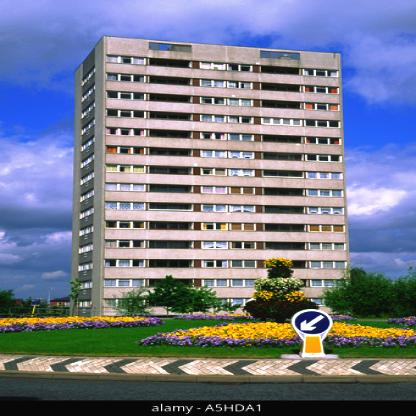Keep left: (288, 307, 334, 337)
